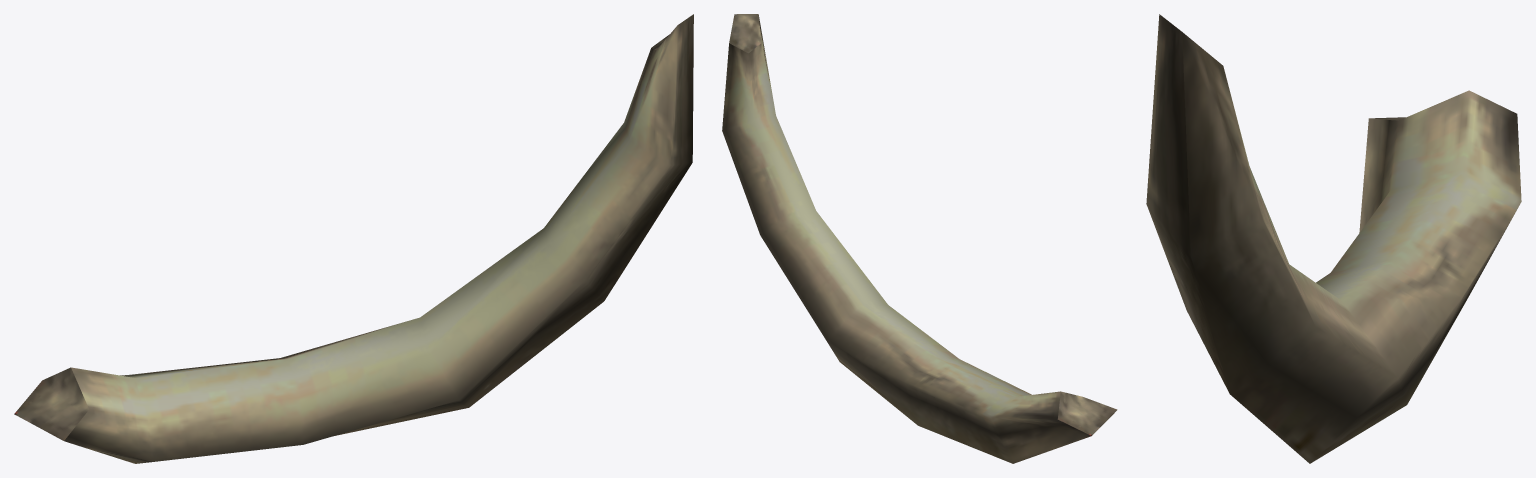
File: Main_Jifengzhigu_gutou04_fbx.fbx
3 views of the same model, side by side, from view 1: azimuth 30°, elevation 25°; view 2: azimuth 150°, elevation 25°; view 3: azimuth 270°, elevation 25° (orthographic). The views are drawn at different scales.
Visible parts, largest first — view 1: Main_Jifengzhigu_gutou04_fbx; view 2: Main_Jifengzhigu_gutou04_fbx; view 3: Main_Jifengzhigu_gutou04_fbx.
Boxes of the visible parts, x1,y1,x2,y2 form: Main_Jifengzhigu_gutou04_fbx: (14, 14, 693, 463); Main_Jifengzhigu_gutou04_fbx: (722, 14, 1117, 463); Main_Jifengzhigu_gutou04_fbx: (1146, 14, 1521, 463).
Size of the model in its own units: 177 by 119 by 67.41.
